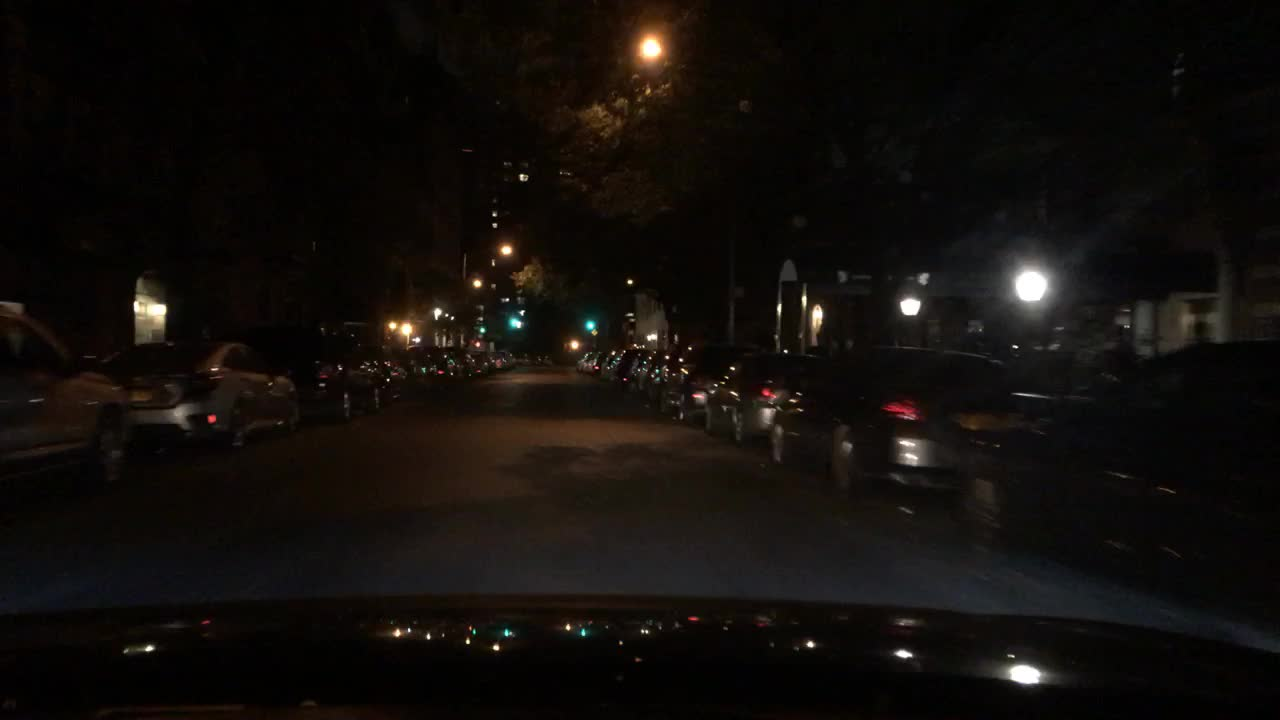car: (996, 338, 1278, 598), (771, 345, 1024, 496), (0, 300, 128, 494), (106, 339, 296, 447), (701, 352, 832, 440), (274, 334, 381, 418), (654, 345, 752, 422), (610, 347, 649, 378), (378, 352, 407, 393), (401, 344, 434, 380), (634, 352, 664, 390), (627, 347, 656, 385), (426, 345, 456, 378), (445, 346, 477, 373), (595, 348, 619, 373), (583, 352, 607, 370), (473, 351, 492, 371), (490, 350, 511, 368), (574, 351, 593, 369), (535, 352, 552, 366), (513, 355, 530, 365)
person: (1114, 324, 1140, 358), (1192, 320, 1215, 343)
traffic light: (509, 318, 521, 327), (586, 320, 597, 329), (478, 327, 487, 333)
traffic sign: (588, 329, 597, 336)
